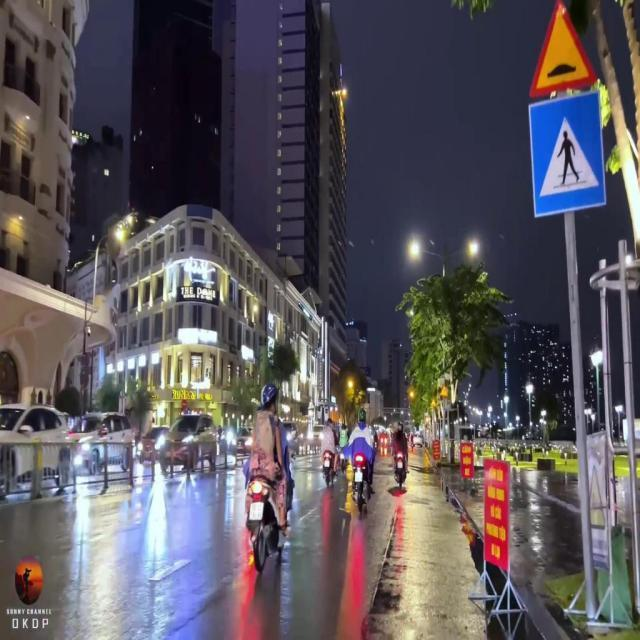221-duong-go-ghe: (530, 5, 596, 101)
224-duong-nguoi-di-bo-cat-ngang: (527, 92, 607, 218)
